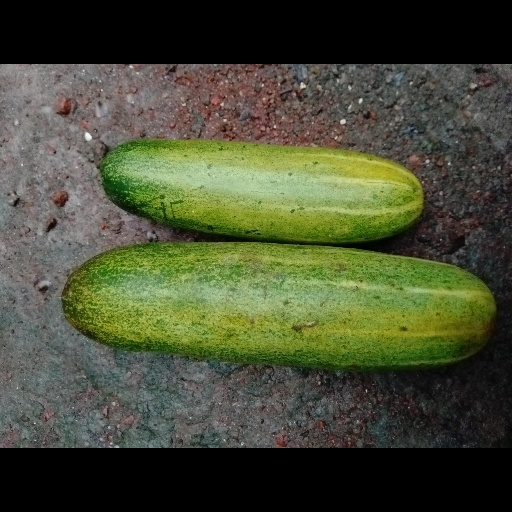concombre: (62, 241, 498, 373), (98, 139, 424, 246)
